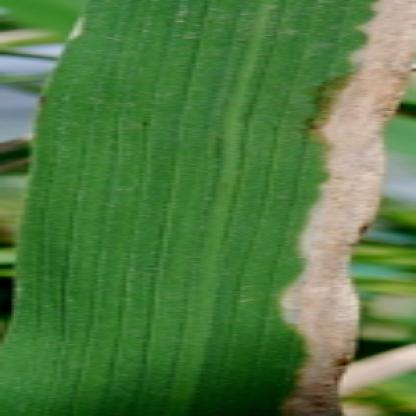Blight: (258, 1, 416, 416)
